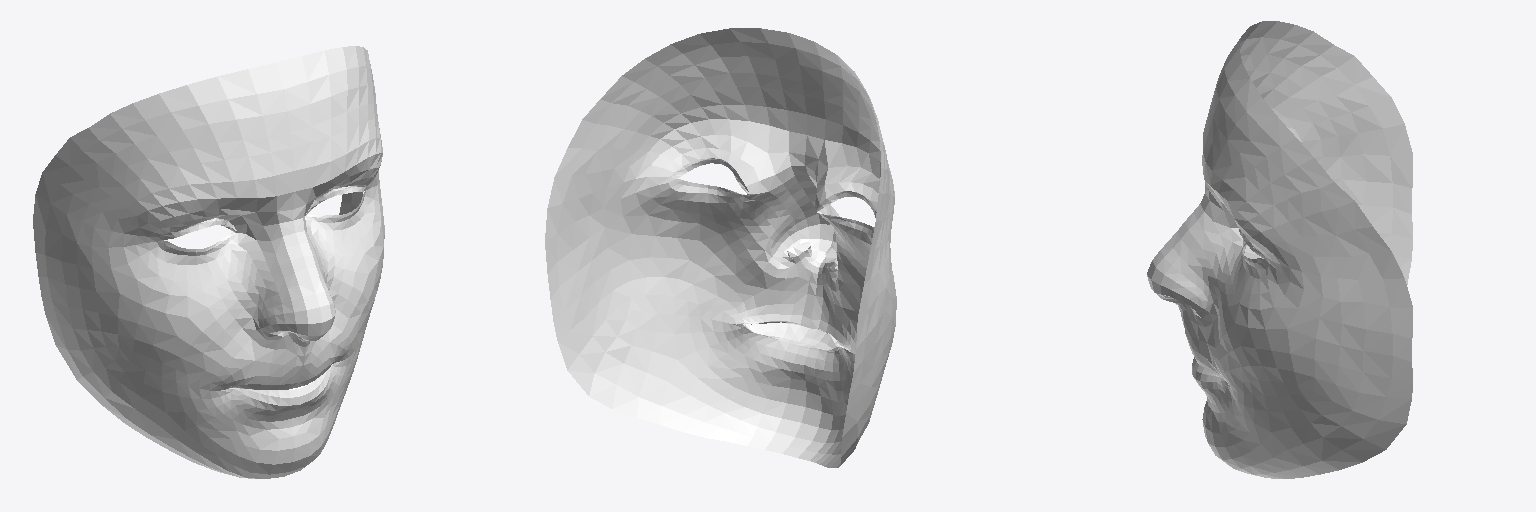
Rendered from mouthRollUpper.obj.
3 renders of one model, left to right at view 1: azimuth 30°, elevation 25°; view 2: azimuth 150°, elevation 25°; view 3: azimuth 270°, elevation 25°, orthographic.
Visible parts, largest first — view 1: default; view 2: default; view 3: default.
Part boxes in pixels (bbox=[...]): default: bbox=[33, 46, 384, 478]; default: bbox=[545, 28, 896, 467]; default: bbox=[1147, 21, 1412, 478].
Bounding box in the file's own units: 0.1447 × 0.1823 × 0.1057.